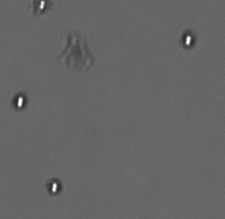Living Cell: (180, 29, 195, 49), (46, 176, 61, 195), (12, 92, 27, 110), (31, 1, 51, 13)
